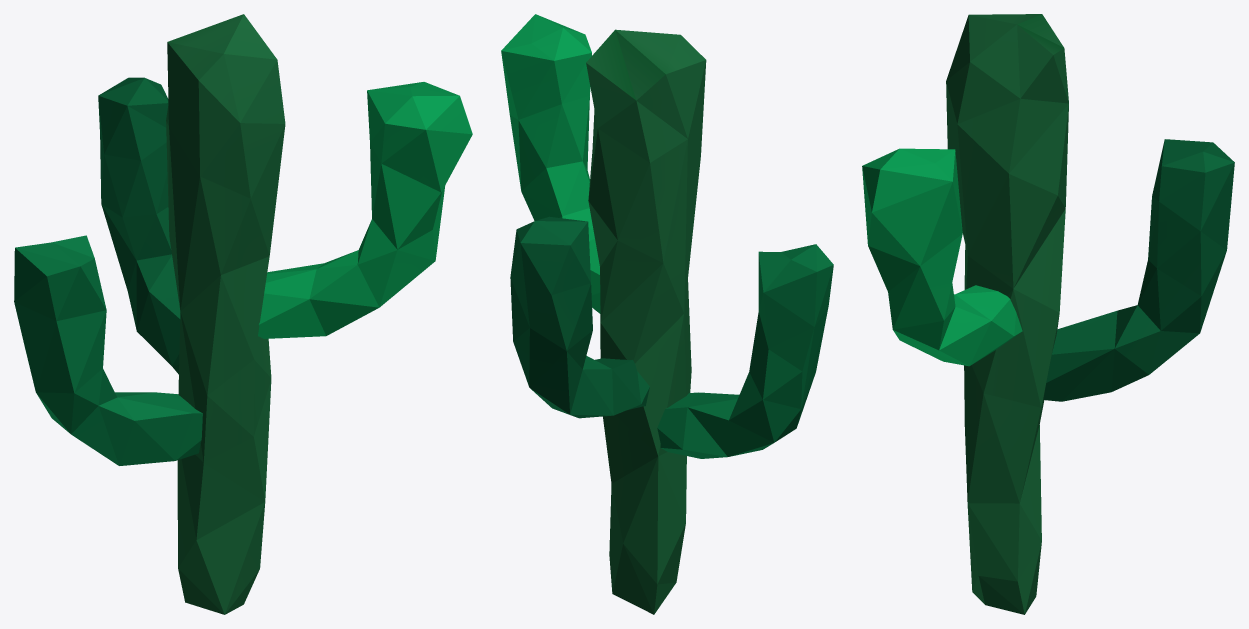
File: Cactus.fbx
3 views of the same model, side by side, from view 1: azimuth 30°, elevation 25°; view 2: azimuth 150°, elevation 25°; view 3: azimuth 270°, elevation 25° (orthographic). The views are drawn at different scales.
Parts seen in each view (by area): view 1: Cactus; view 2: Cactus; view 3: Cactus.
Part boxes in pixels (left/top/right/bottom): Cactus: left=14, top=14, right=472, bottom=614; Cactus: left=501, top=14, right=833, bottom=614; Cactus: left=862, top=14, right=1234, bottom=614.
Size of the model in its own units: 1.81 by 2.68 by 1.52.
